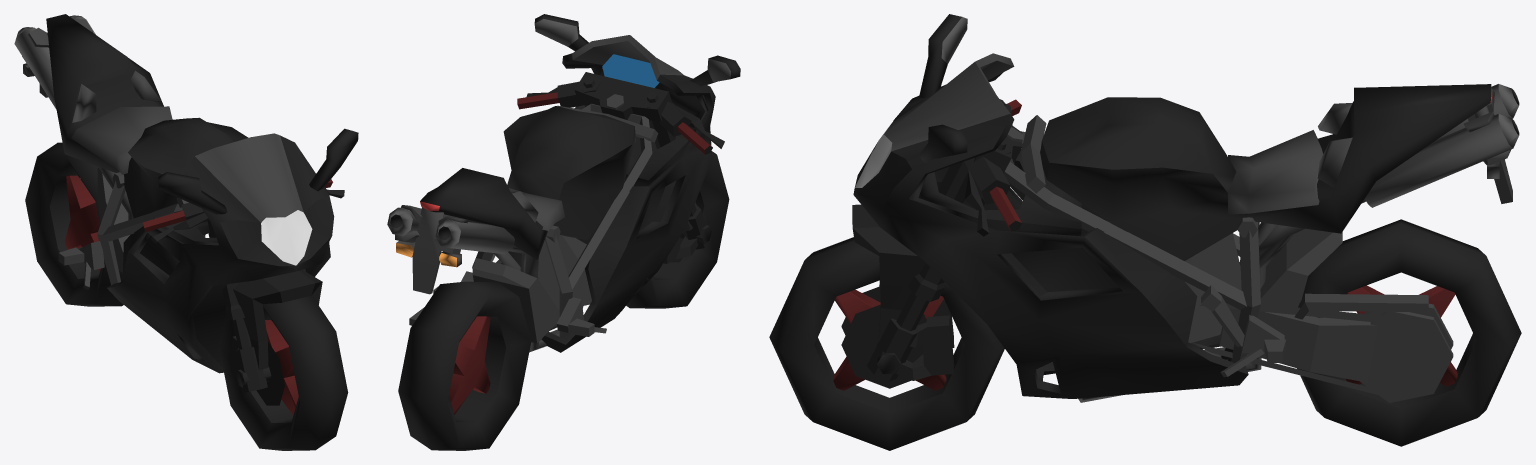
The model's file is SportsBike_OP 1.fbx.
3 views of the same model, side by side, from view 1: azimuth 30°, elevation 25°; view 2: azimuth 150°, elevation 25°; view 3: azimuth 270°, elevation 25° (orthographic). The views are drawn at different scales.
Parts seen in each view (by area): view 1: Bike_BLK.001, Front Wheel, Rear Wheel.001; view 2: Bike_BLK.001, Rear Wheel.001, Front Wheel; view 3: Bike_BLK.001, Front Wheel, Rear Wheel.001.
Part boxes in pixels (box(x1,y1,x2,y2)): Bike_BLK.001: box(14, 14, 358, 392); Front Wheel: box(218, 295, 348, 450); Rear Wheel.001: box(25, 142, 123, 306); Bike_BLK.001: box(387, 14, 740, 352); Rear Wheel.001: box(398, 281, 531, 450); Front Wheel: box(626, 151, 729, 308); Bike_BLK.001: box(852, 14, 1519, 402); Front Wheel: box(769, 237, 1004, 450); Rear Wheel.001: box(1297, 219, 1521, 446).
Bounding box in the file's own units: 0.8456 × 1.17 × 2.08.
Materials: 1 (1 with a texture image).
